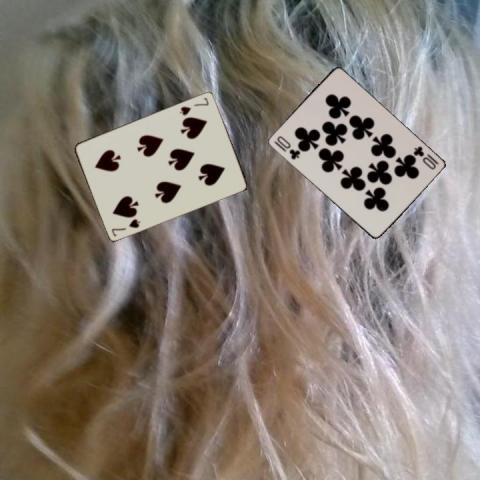10c: (271, 133, 301, 161), (410, 143, 439, 171)
7s: (177, 94, 210, 117), (109, 216, 141, 237)
